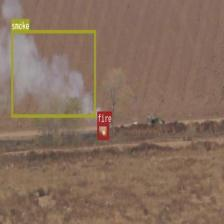fire: (96, 122, 108, 139)
smoke: (11, 30, 95, 116)
